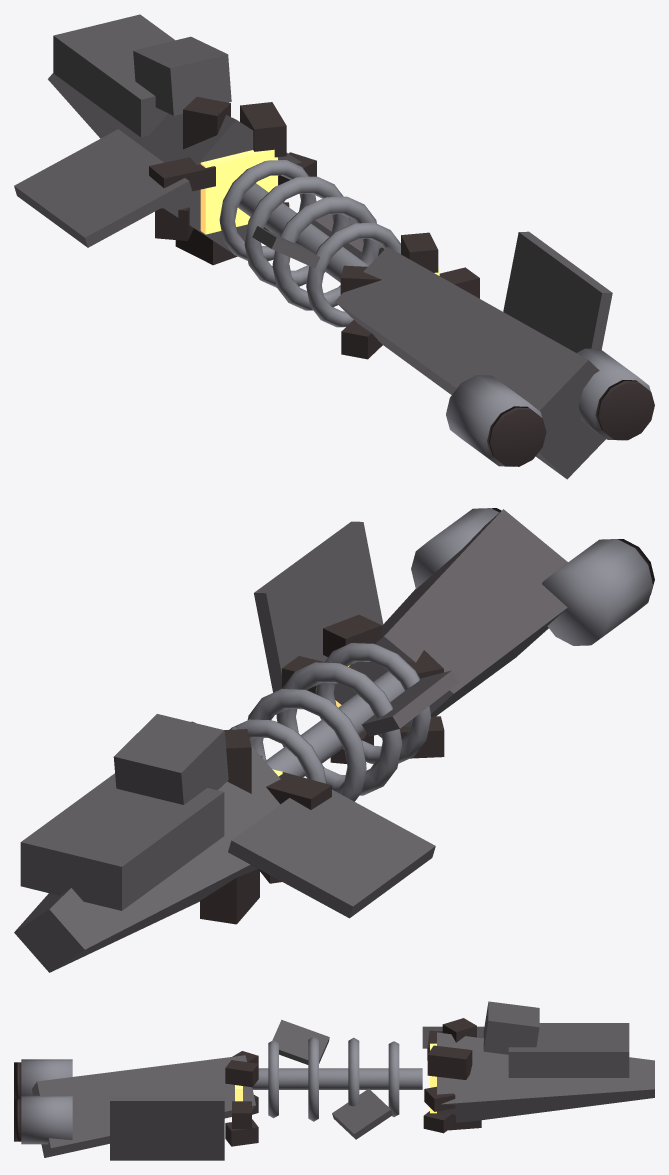
File: prop-wreck.glb
The picture shows the model from 3 angles, top to bottom: view 1: azimuth 30°, elevation 25°; view 2: azimuth 150°, elevation 25°; view 3: azimuth 270°, elevation 25°; orthographic projection. The views are drawn at different scales.
Visible parts, largest first — view 1: 动力段, 残翼, 舰艏甲板, 破损舷侧板, 舰艏, 舰桥残块, 引擎0, 肋骨1, 肋骨2, 肋骨0, 前断口余烬, 引擎口0 (+14 smaller); view 2: 动力段, 舰艏甲板, 残翼, 舰艏, 破损舷侧板, 引擎0, 舰桥残块, 肋骨1, 肋骨2, 肋骨0, 龙骨, 引擎1 (+7 smaller); view 3: 舰艏, 动力段, 破损舷侧板, 舰艏甲板, 龙骨, 舰桥残块, 引擎1, 残片A, 残片B, 前断齿1, 引擎0, 肋骨1 (+12 smaller).
Part boxes in pixels (<box>): 动力段: <box>335,247,605,479</box>; 残翼: <box>14,129,191,247</box>; 舰艏甲板: <box>53,14,174,137</box>; 破损舷侧板: <box>503,231,612,352</box>; 舰艏: <box>48,73,301,253</box>; 舰桥残块: <box>133,36,231,115</box>; 引擎0: <box>446,375,542,466</box>; 肋骨1: <box>272,196,379,310</box>; 肋骨2: <box>244,176,349,287</box>; 肋骨0: <box>306,222,400,327</box>; 前断口余烬: <box>200,149,277,234</box>; 引擎口0: <box>487,406,546,466</box>; 动力段: <box>334,509,567,737</box>; 舰艏甲板: <box>20,773,224,910</box>; 残翼: <box>228,780,435,918</box>; 舰艏: <box>14,726,280,972</box>; 破损舷侧板: <box>254,521,383,692</box>; 引擎0: <box>542,539,652,645</box>; 舰桥残块: <box>113,714,228,804</box>; 肋骨1: <box>276,662,401,795</box>; 肋骨2: <box>247,689,366,801</box>; 肋骨0: <box>315,643,430,764</box>; 龙骨: <box>265,671,404,777</box>; 引擎1: <box>411,508,499,588</box>; 舰艏: <box>437,1032,654,1122</box>; 动力段: <box>32,1055,255,1157</box>; 破损舷侧板: <box>110,1096,224,1160</box>; 舰艏甲板: <box>508,1023,629,1077</box>; 龙骨: <box>252,1068,422,1089</box>; 舰桥残块: <box>483,1001,539,1054</box>; 引擎1: <box>21,1095,72,1144</box>; 残片A: <box>332,1088,392,1139</box>; 残片B: <box>272,1019,329,1064</box>; 前断齿1: <box>427,1045,472,1079</box>; 引擎0: <box>21,1059,72,1095</box>; 肋骨1: <box>308,1036,318,1121</box>.
Size of the model in its own units: 8.3 by 5.08 by 22.35.
